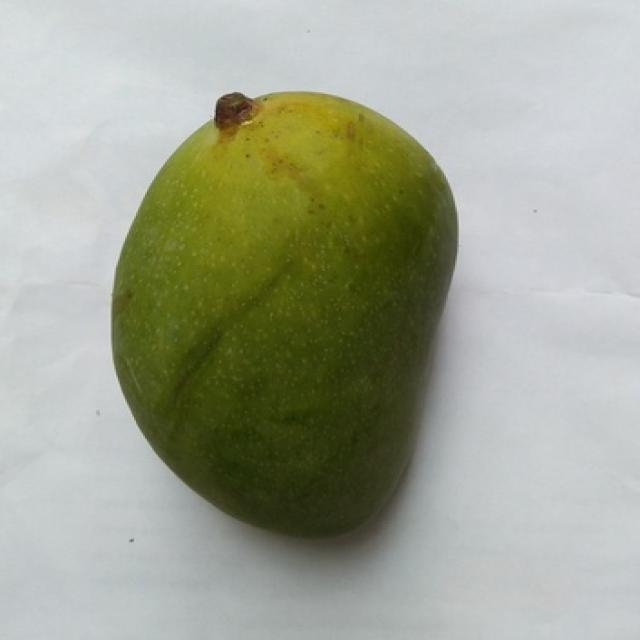Mango: (114, 95, 455, 536)
